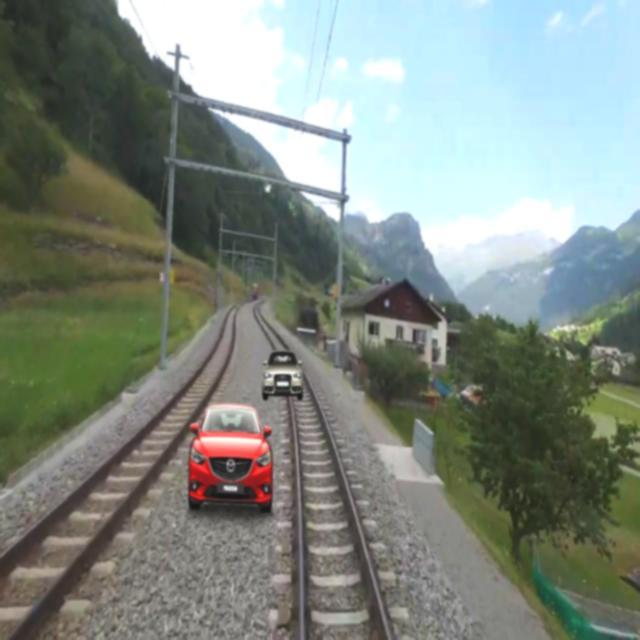danger: (180, 390, 285, 525), (254, 339, 314, 405)
rail: (0, 299, 246, 639), (246, 294, 421, 640)
